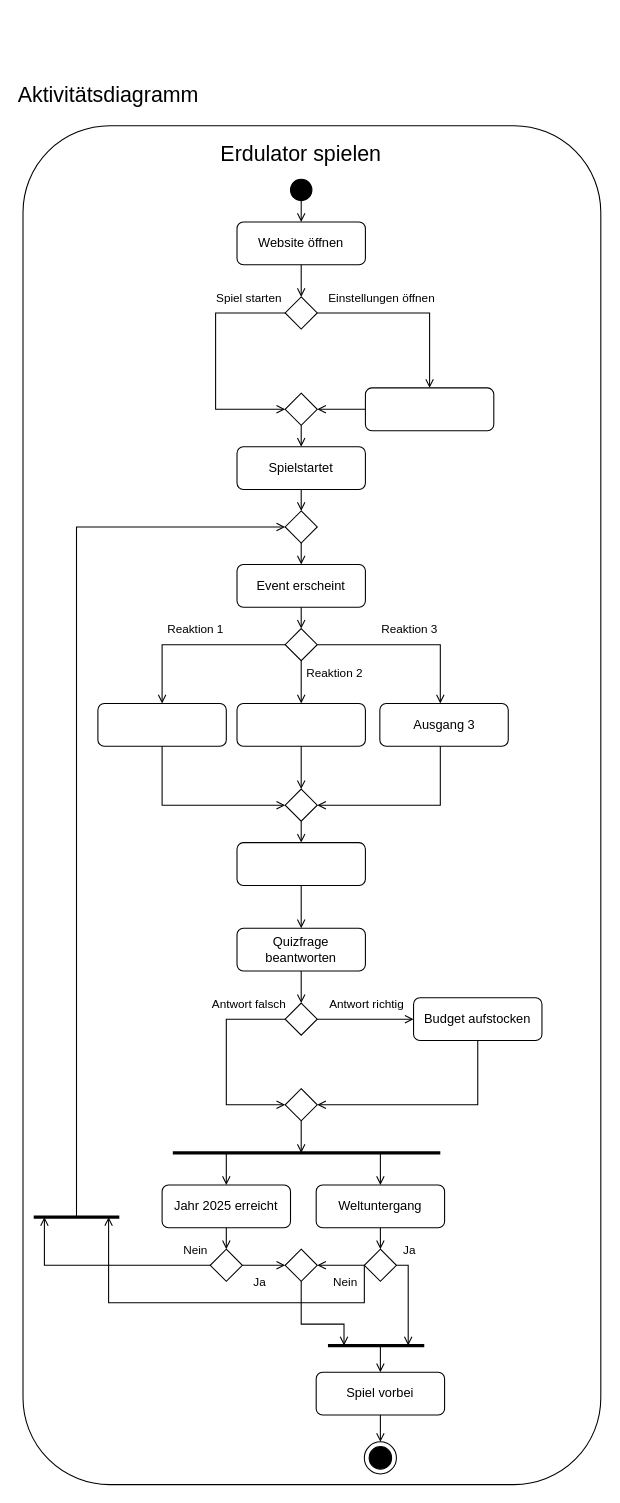
Image size: 620x1503. Some labels were removed from this diagram. The shapes that lost their labels are listed below. From the top down, each one's centre as x and y in pixels, then its label:
the point at 429,409: Spiel einstellen
the point at 161,724: Ausgang 1
the point at 300,724: Ausgang 2
the point at 300,863: Quizfrage erscheint
